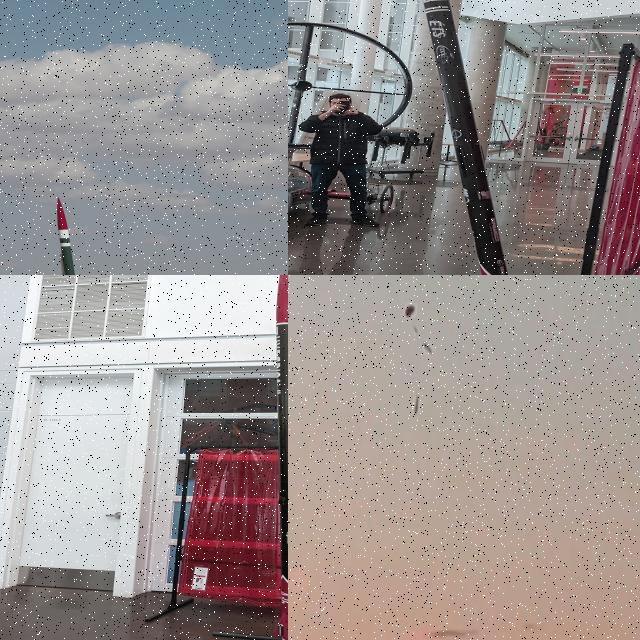Rocket: (423, 0, 508, 275), (274, 275, 288, 640), (56, 196, 88, 275), (414, 395, 418, 413)
